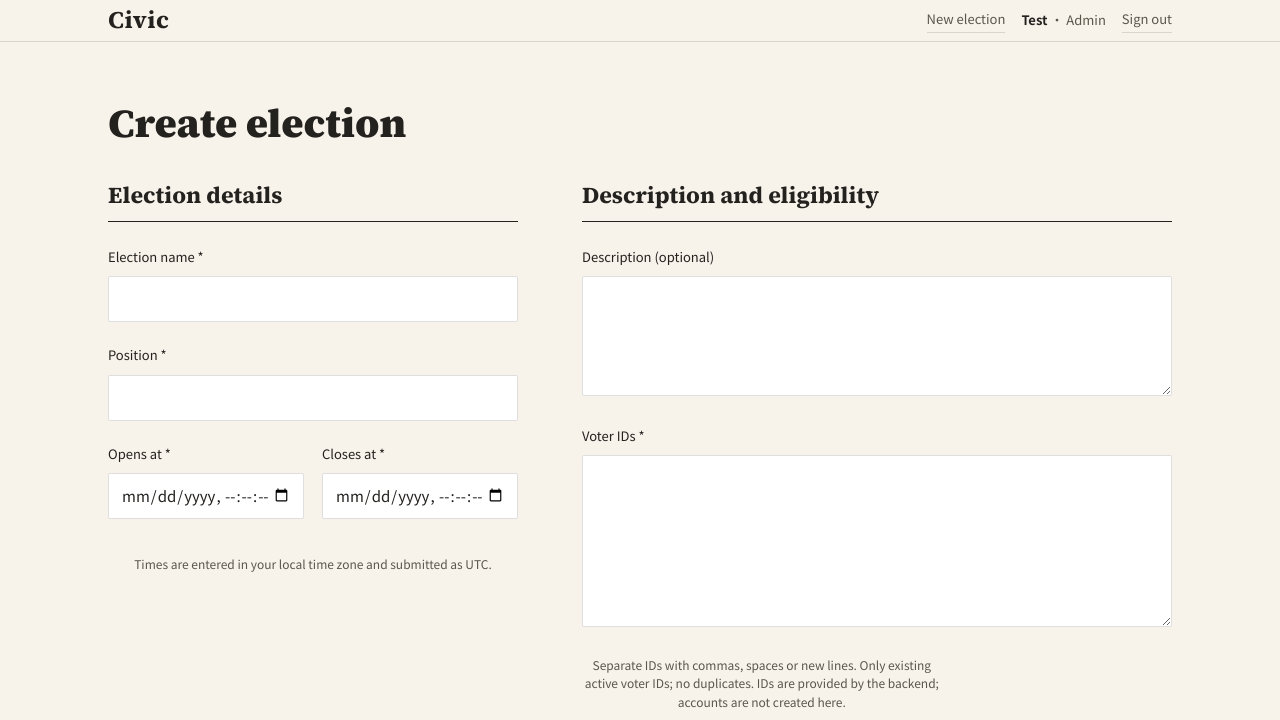
Test: create election › submits documented fields, preserves BIGINT strings, converts local time, and opens the new detail
The width and height of the screenshot is (1280, 720).
expect the heading "Create election" is shown: met, box left=108, top=96, right=406, bottom=150
Type "New class representative election" into the field labelled "Election name *" at (313, 300), box left=108, top=276, right=518, bottom=322
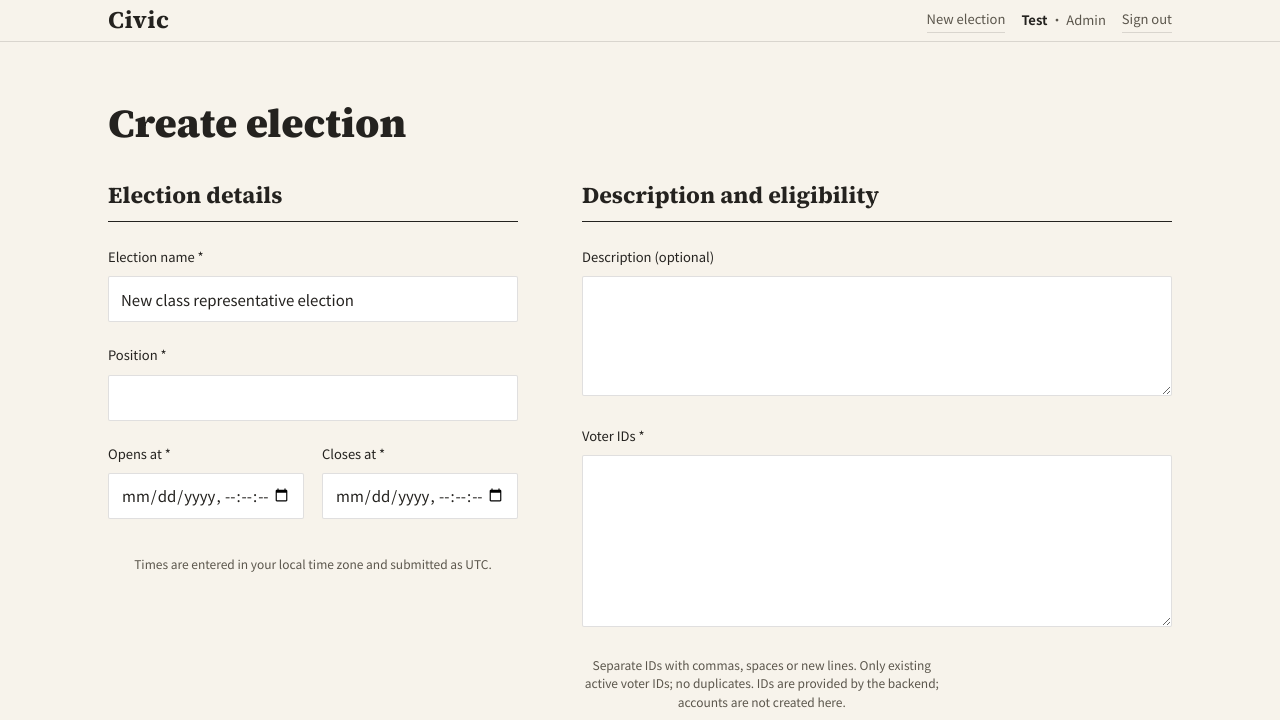
Type "Class representative" into the field labelled "Position *" at (313, 398), box left=108, top=375, right=518, bottom=421
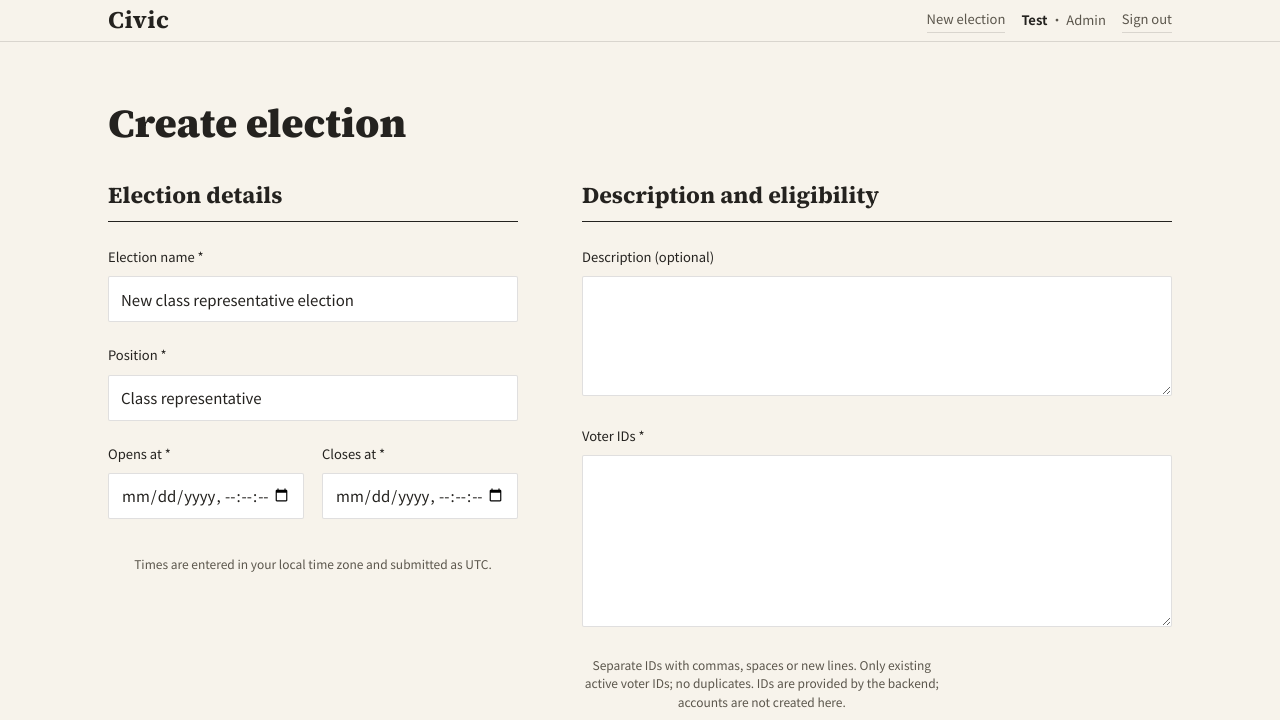
Type "2026-10-20T09:00" into the field labelled "Opens at *" at (206, 496), box left=108, top=473, right=304, bottom=519
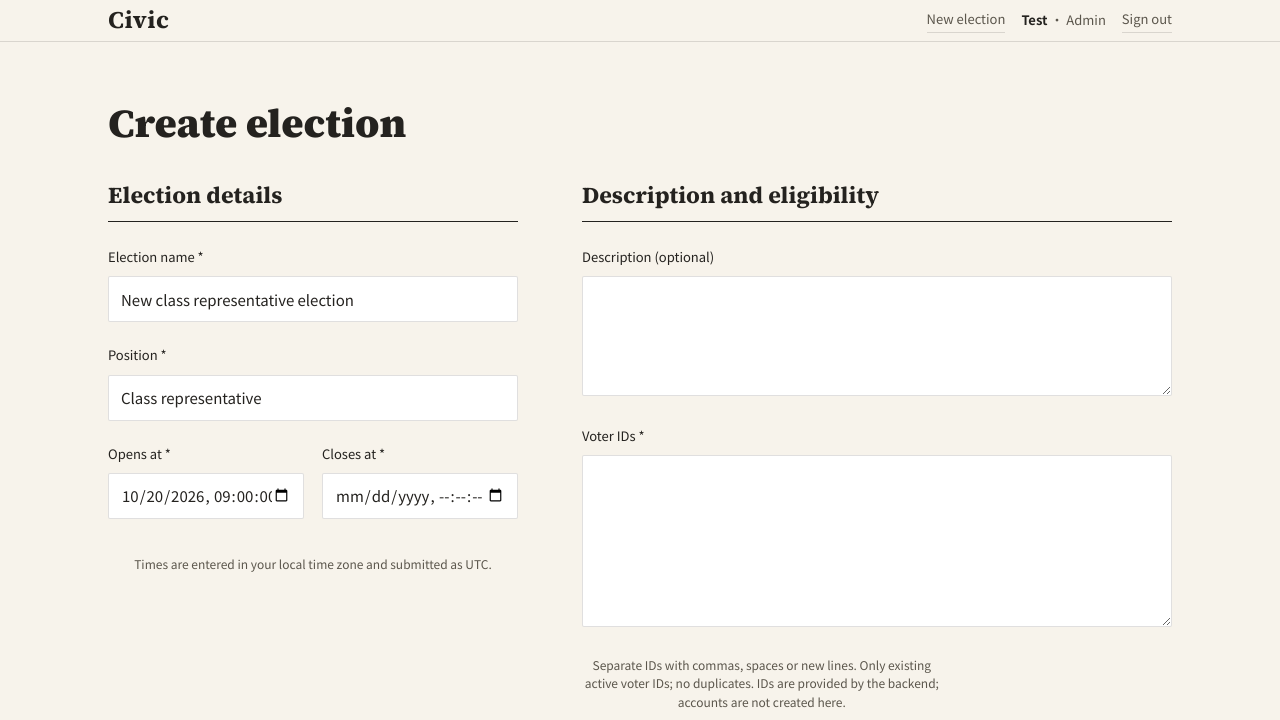
Type "2026-10-20T17:00" into the field labelled "Closes at *" at (420, 496), box left=322, top=473, right=518, bottom=519
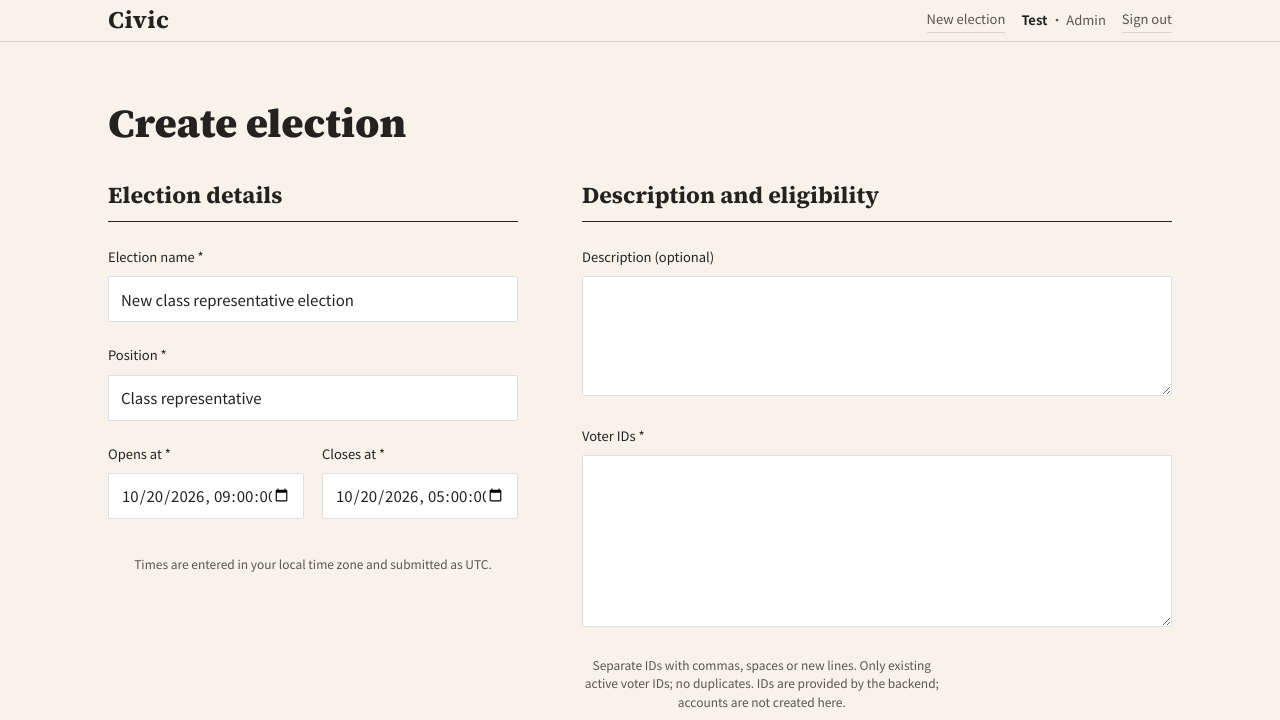
Type "21,9007199254740995" into the text box labelled "Voter IDs *" at (877, 541), box left=582, top=455, right=1172, bottom=627
(page scrolled)
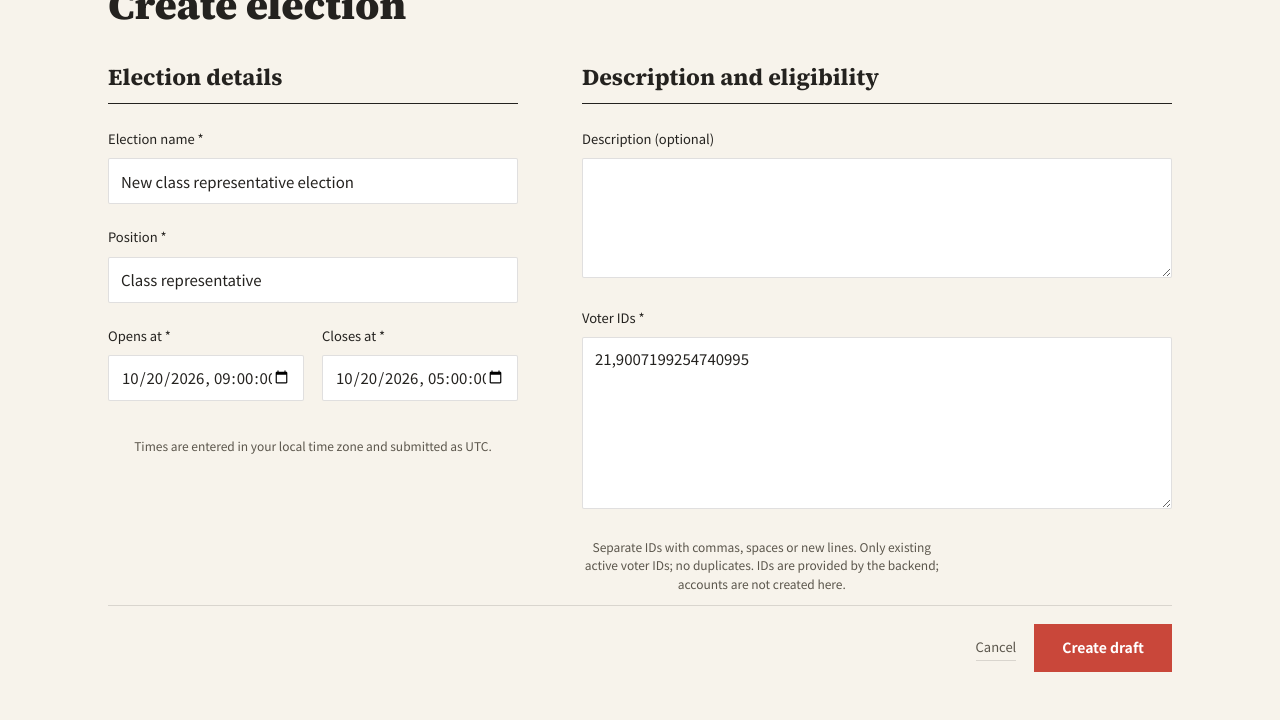
Click the button "Create draft" at (1103, 648), box left=1034, top=624, right=1172, bottom=672
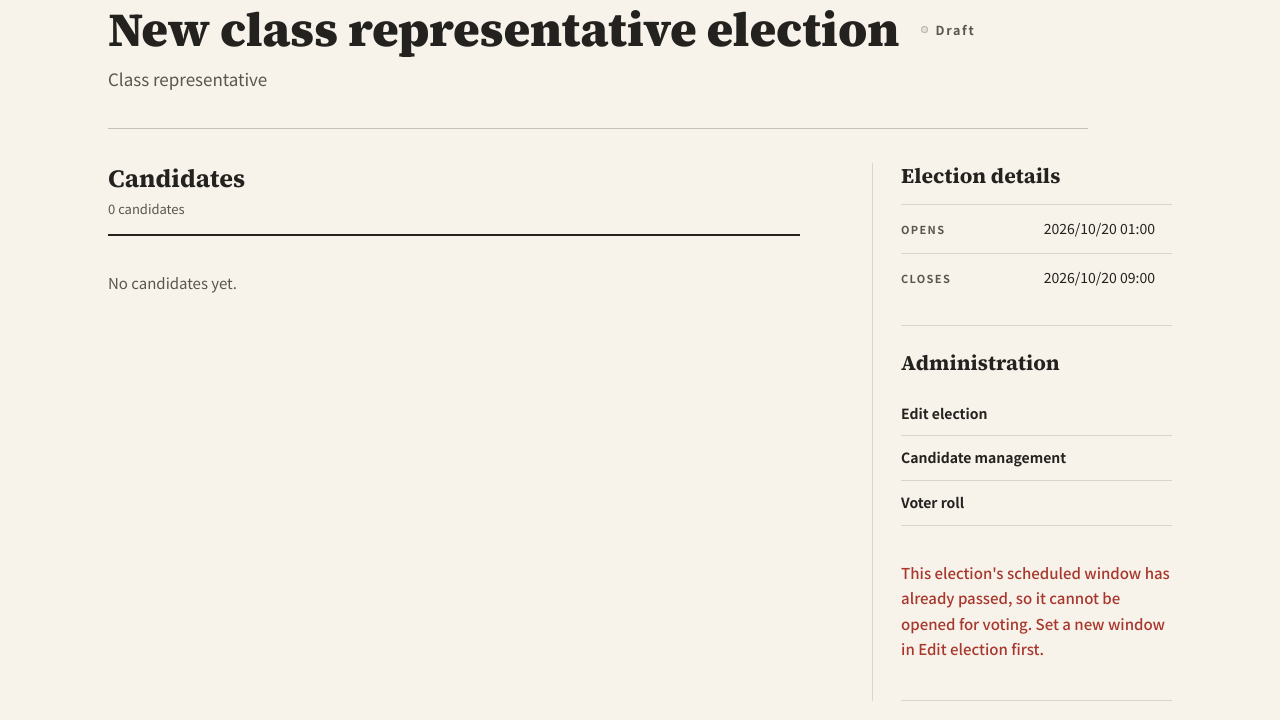
expect the heading "New class representative election" is shown: met, box left=108, top=3, right=900, bottom=57
